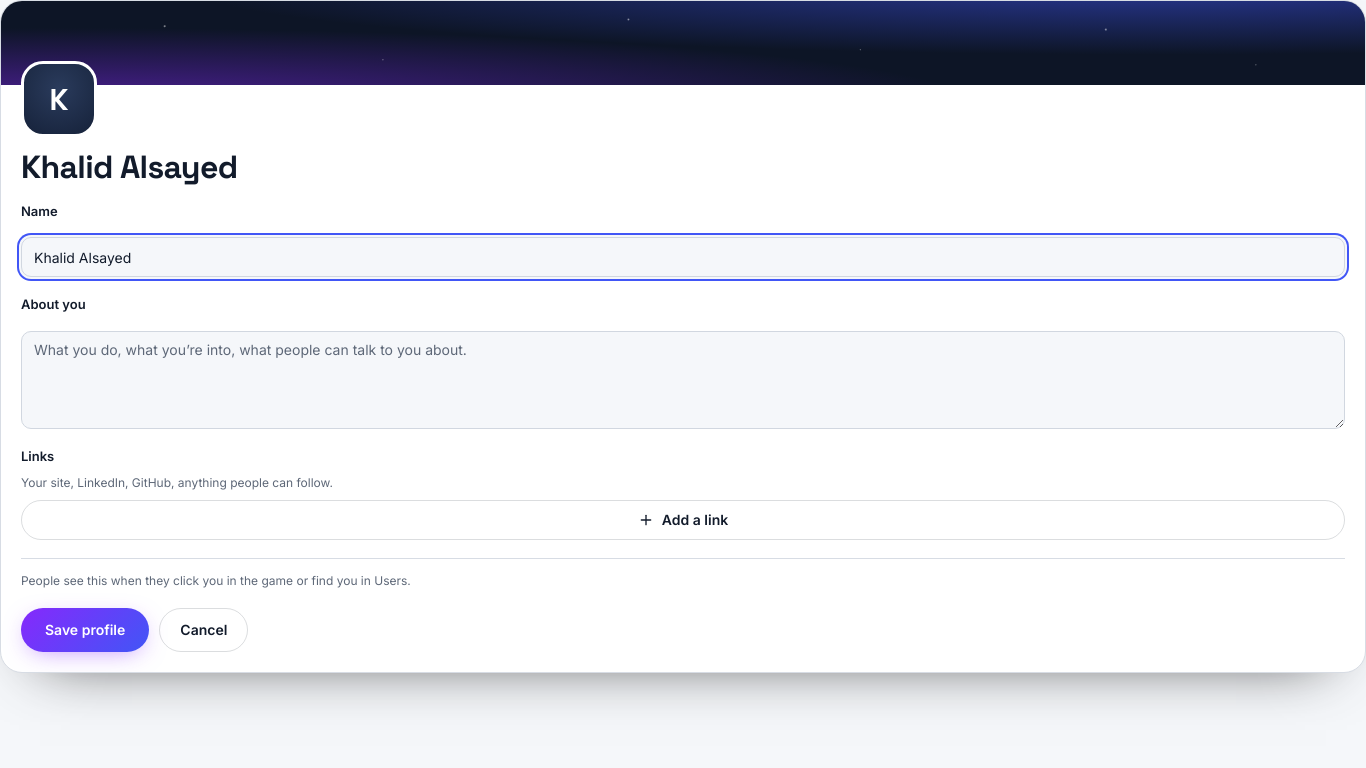
Scenario: Your profile on You › opens ready to edit when asked, and catches a bad link before saving
Click the button "Add a link": (683, 520) x1=21 y1=500 x2=1345 y2=540
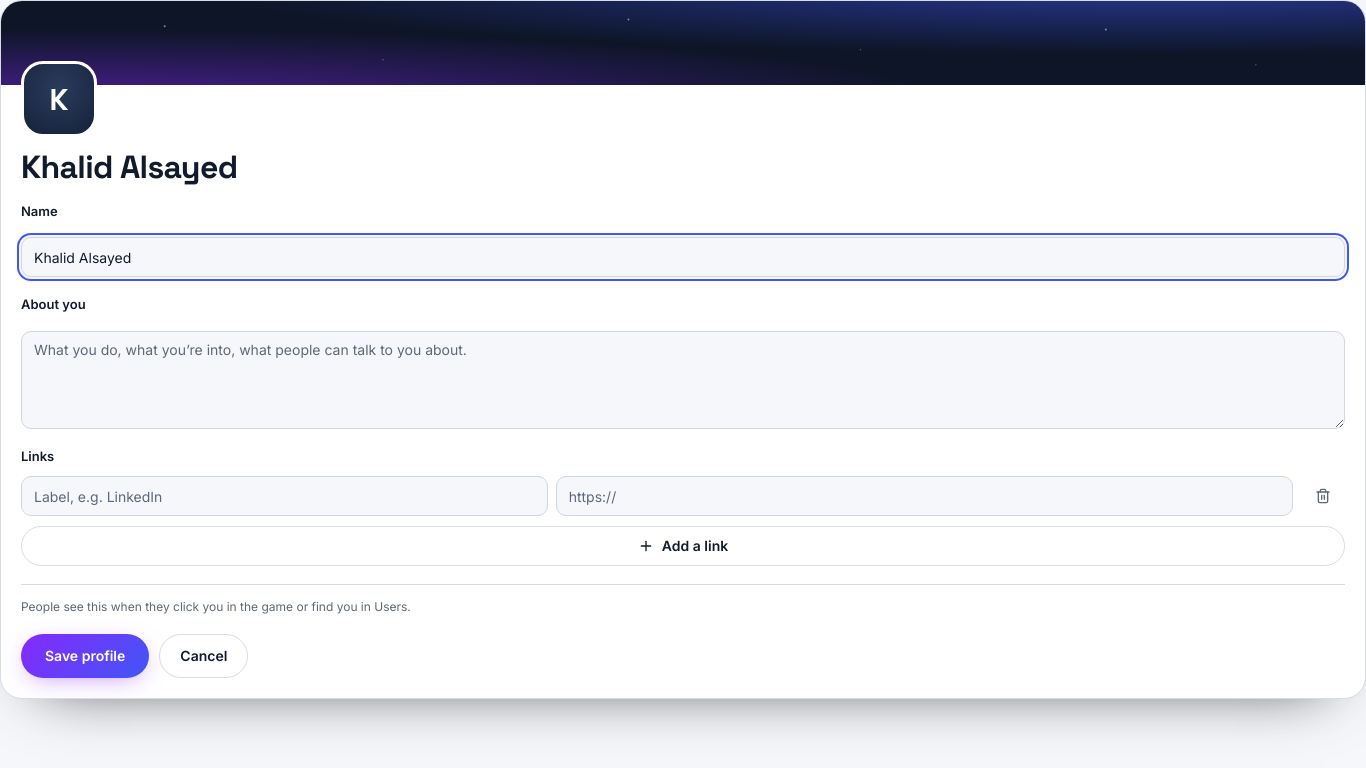
In the field named "Link 1 label": (284, 496) x1=21 y1=476 x2=548 y2=516, type "Me"
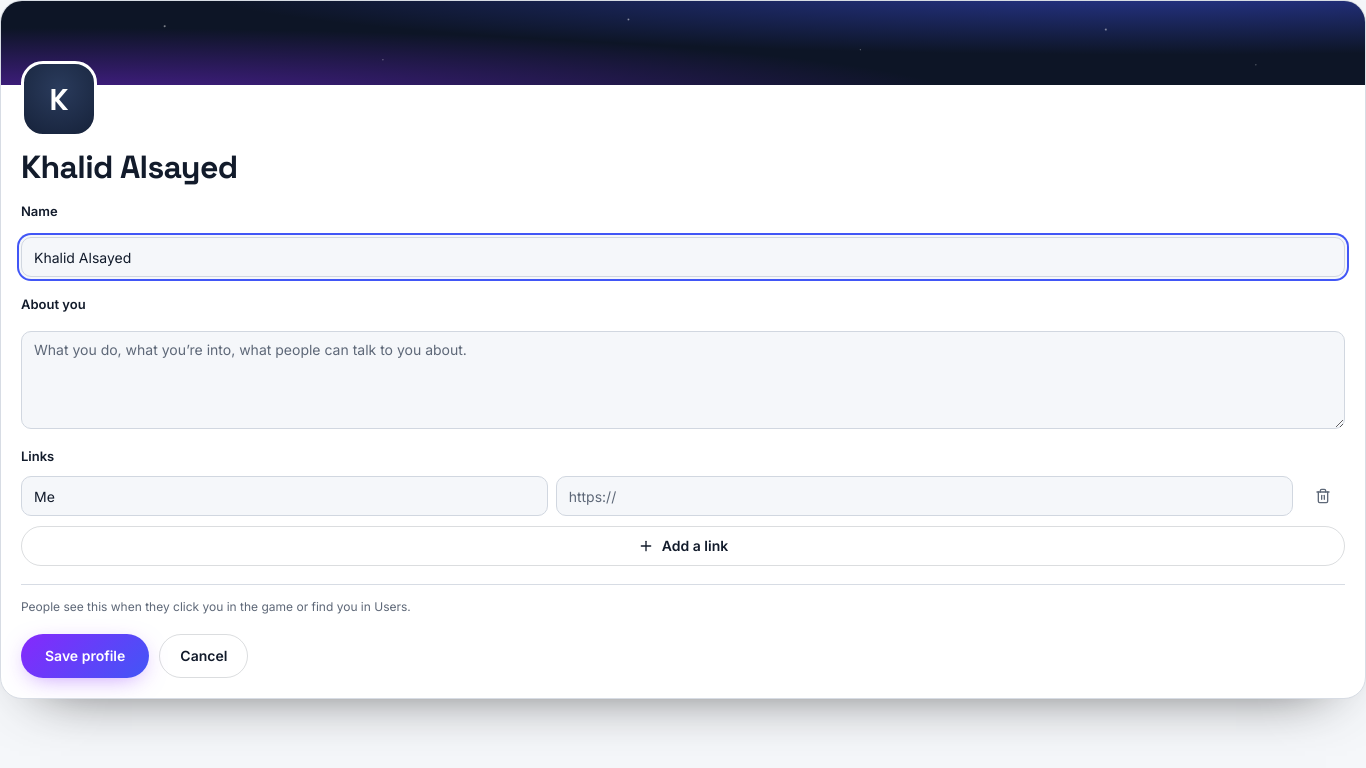
In the field named "Link 1 address": (924, 496) x1=556 y1=476 x2=1293 y2=516, type "javascript:alert(1)"
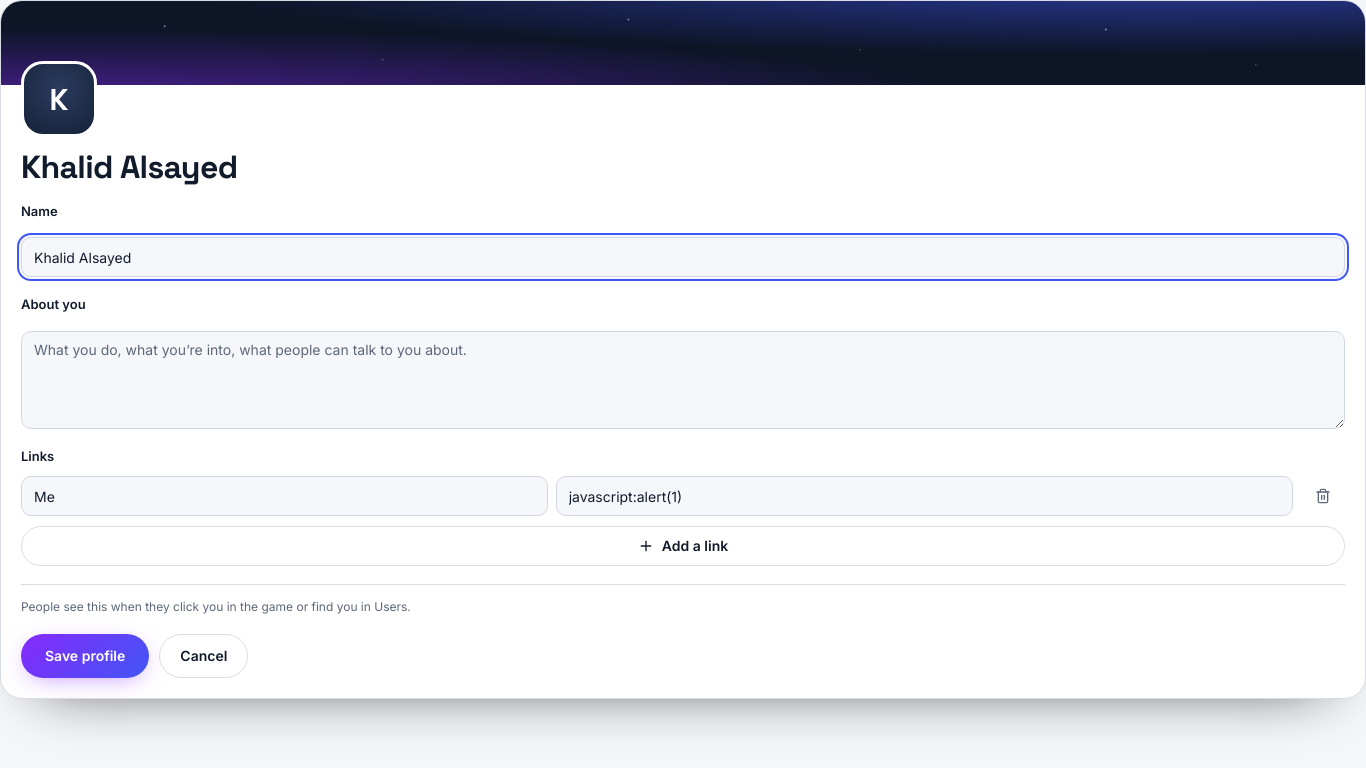
Click the button "Save profile": (85, 656) x1=21 y1=634 x2=149 y2=678
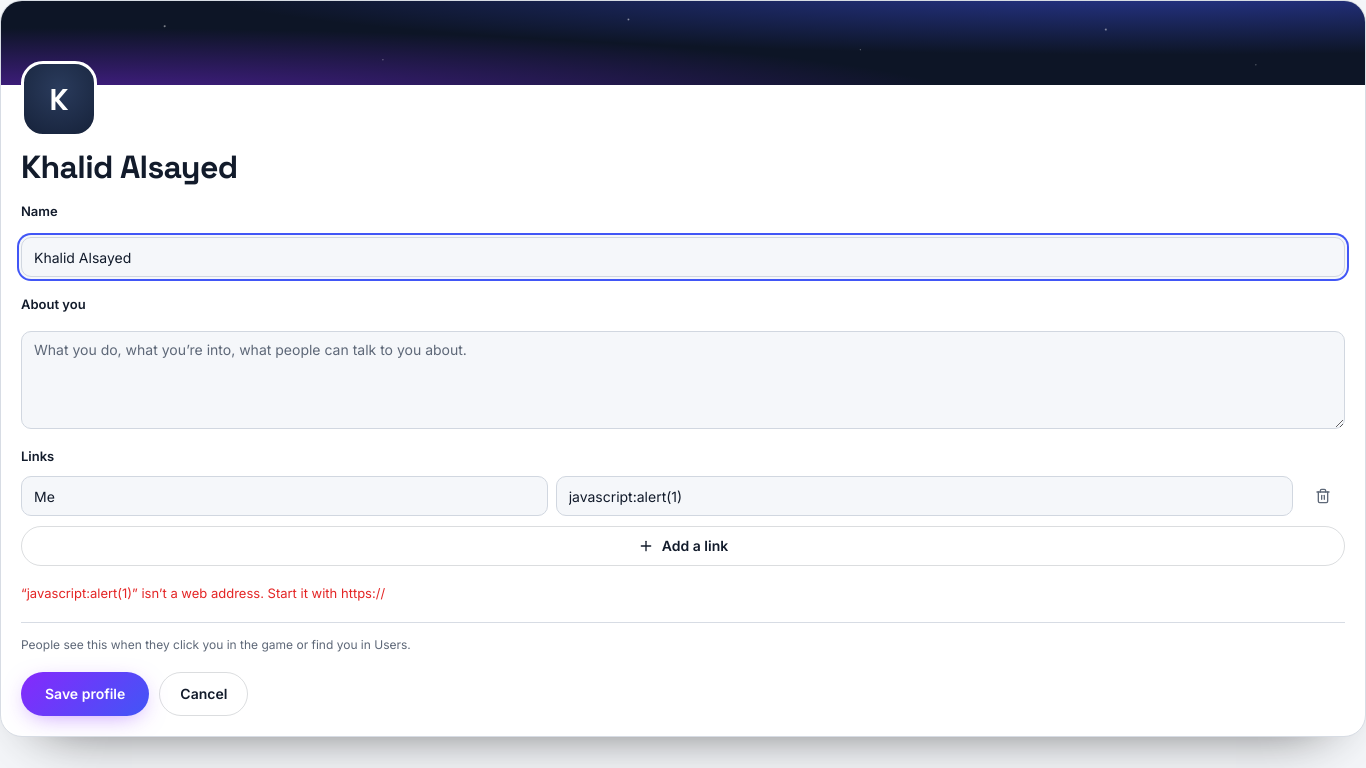
Expected: the message shows "isn’t a web address", x1=21 y1=585 x2=385 y2=601
